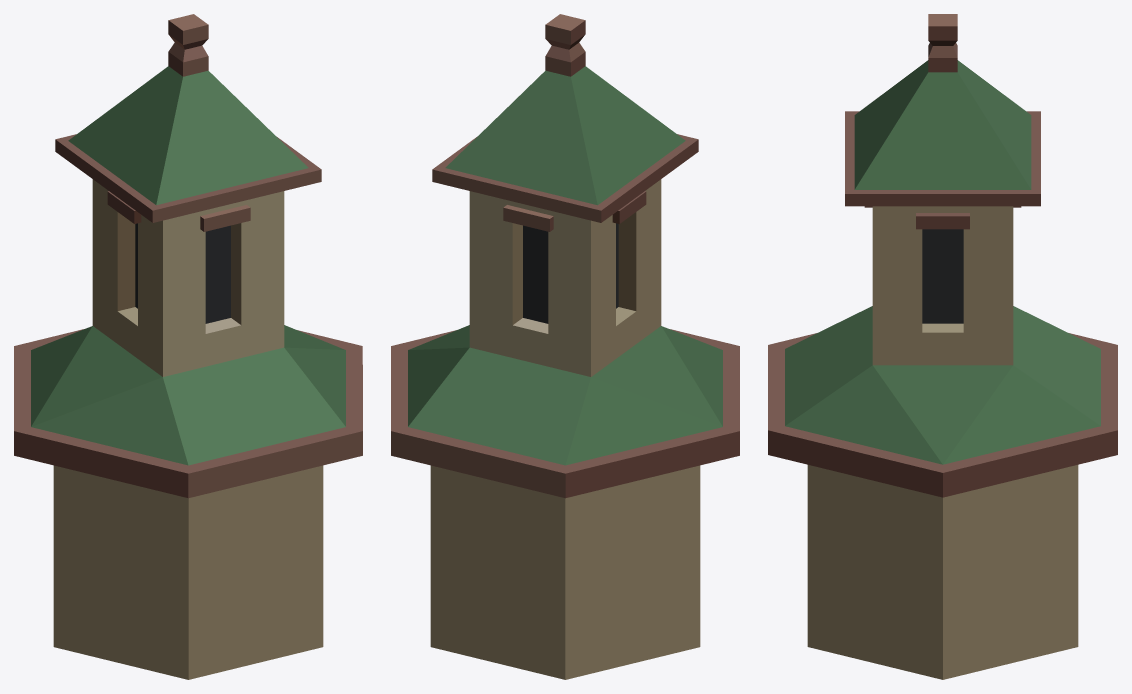
Rendered from SF_Bld_Elven_HouseAdd_Roof_01.fbx.
The picture shows the model from 3 angles, left to right: view 1: azimuth 30°, elevation 25°; view 2: azimuth 150°, elevation 25°; view 3: azimuth 270°, elevation 25°; orthographic projection.
Visible parts, largest first — view 1: SF_Bld_Elven_HouseAdd_Roof_01; view 2: SF_Bld_Elven_HouseAdd_Roof_01; view 3: SF_Bld_Elven_HouseAdd_Roof_01.
Part boxes in pixels (left/top/right/bottom): SF_Bld_Elven_HouseAdd_Roof_01: left=14, top=14, right=362, bottom=679; SF_Bld_Elven_HouseAdd_Roof_01: left=391, top=14, right=739, bottom=679; SF_Bld_Elven_HouseAdd_Roof_01: left=768, top=14, right=1117, bottom=679.
Bounding box in the file's own units: 4.84 × 7.85 × 4.19.
